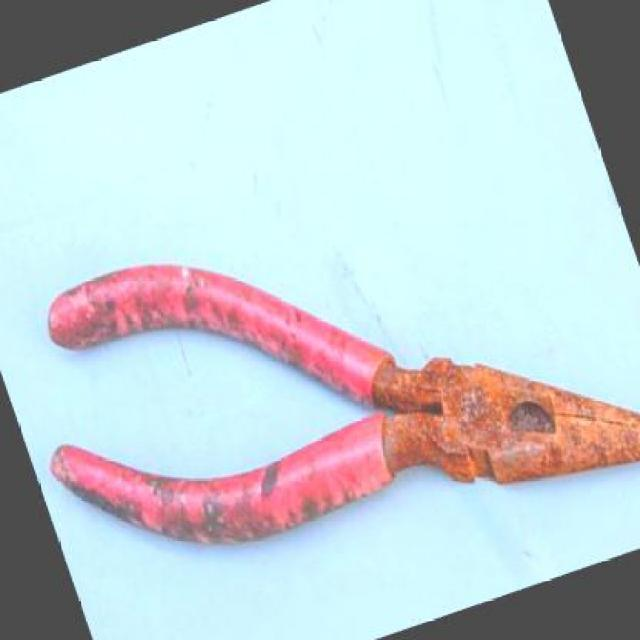pliers: (0, 99, 638, 638)
